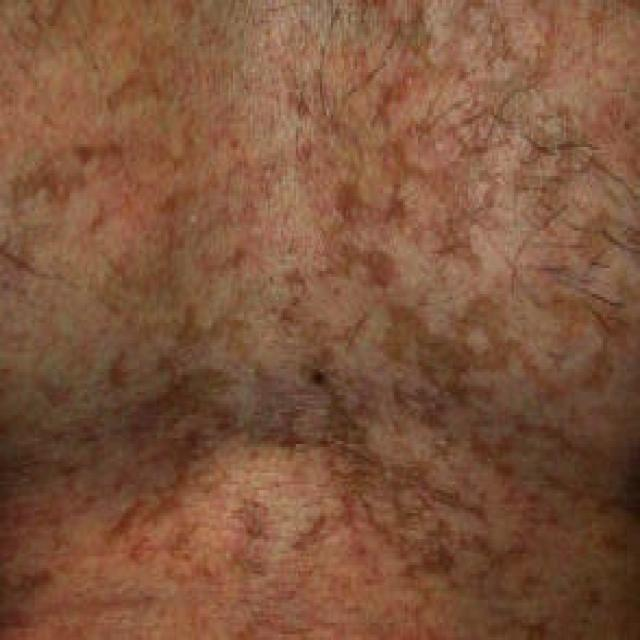Tinea Ringworm Candidiasis and other Fungal Infections: (10, 18, 616, 598)
